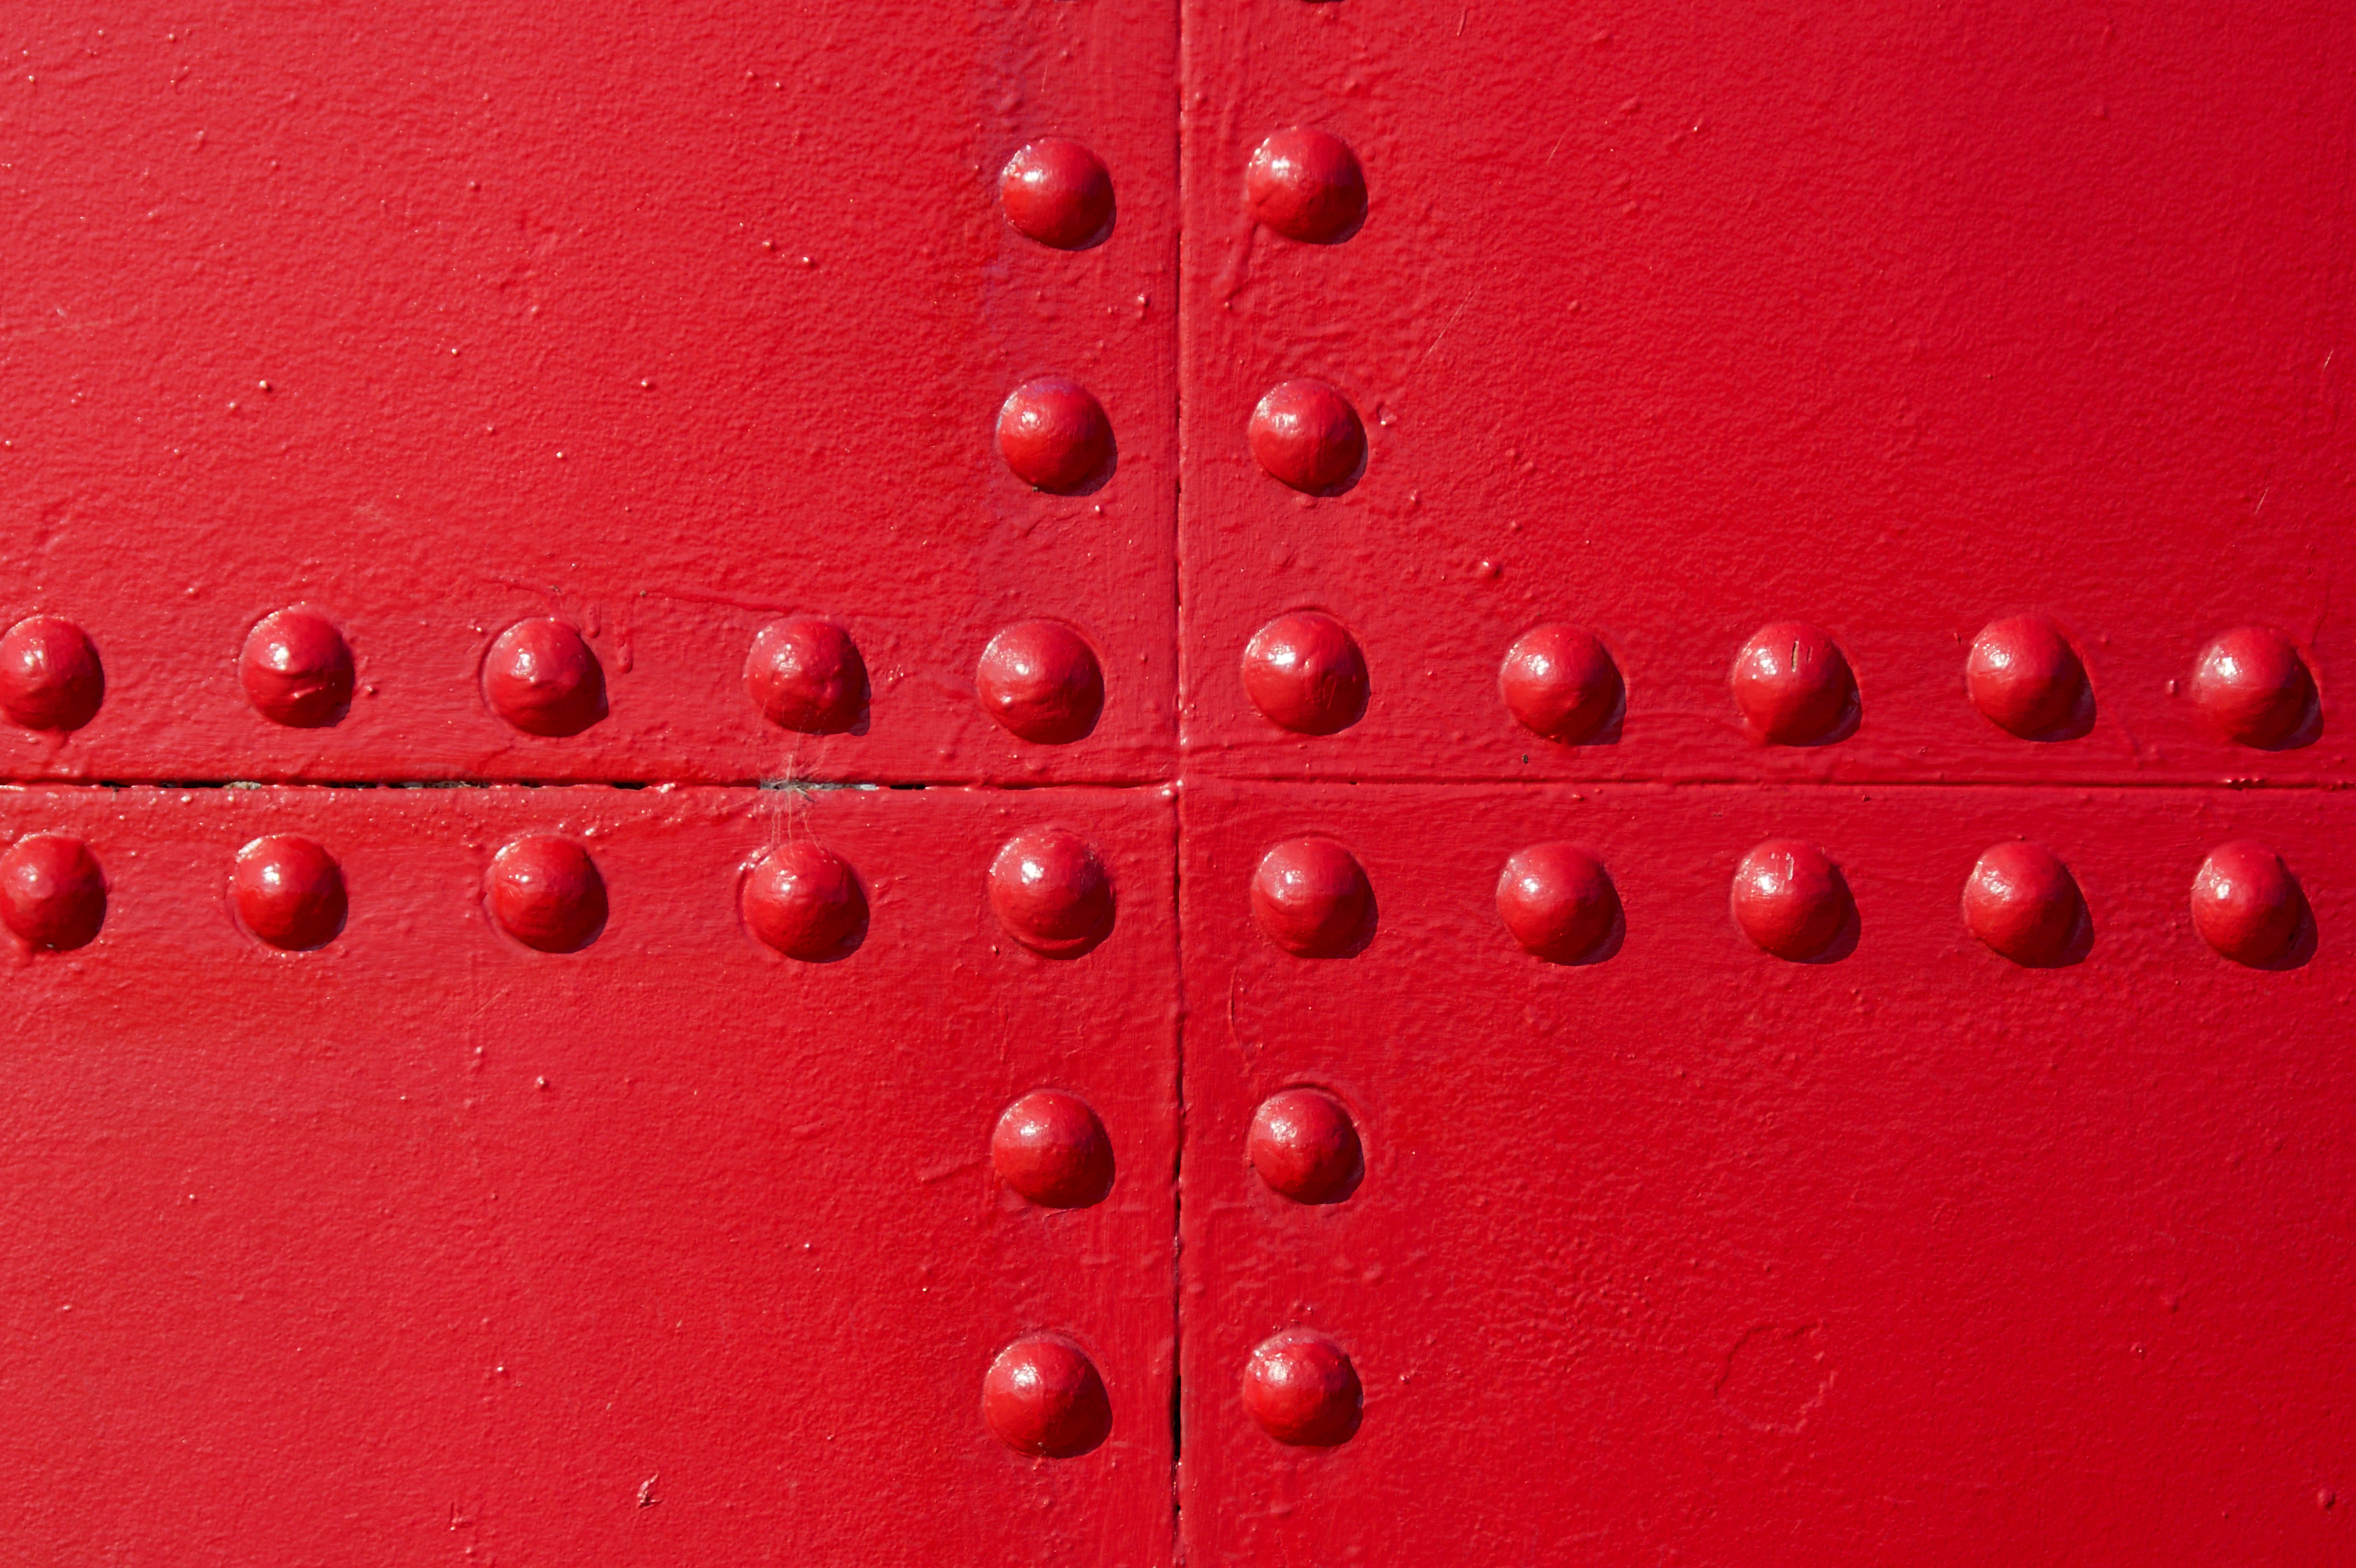rivet: (213, 816, 360, 964), (476, 605, 624, 744), (474, 821, 617, 961), (979, 607, 1116, 751), (1237, 605, 1378, 742), (1235, 1321, 1370, 1461), (972, 1330, 1112, 1465), (738, 826, 868, 971), (986, 817, 1116, 961), (233, 598, 362, 738), (740, 605, 868, 747), (1950, 607, 2087, 738), (1490, 614, 1625, 745), (1240, 124, 1375, 255), (1730, 614, 1861, 747), (1721, 836, 1852, 969), (1240, 1074, 1368, 1211), (1954, 835, 2087, 964), (2183, 621, 2319, 747), (1245, 831, 1377, 961), (995, 367, 1119, 504), (990, 1085, 1119, 1214), (1488, 831, 1616, 961), (993, 131, 1121, 255), (2188, 836, 2309, 968), (5, 817, 114, 963), (3, 602, 115, 742), (1247, 371, 1368, 495)
